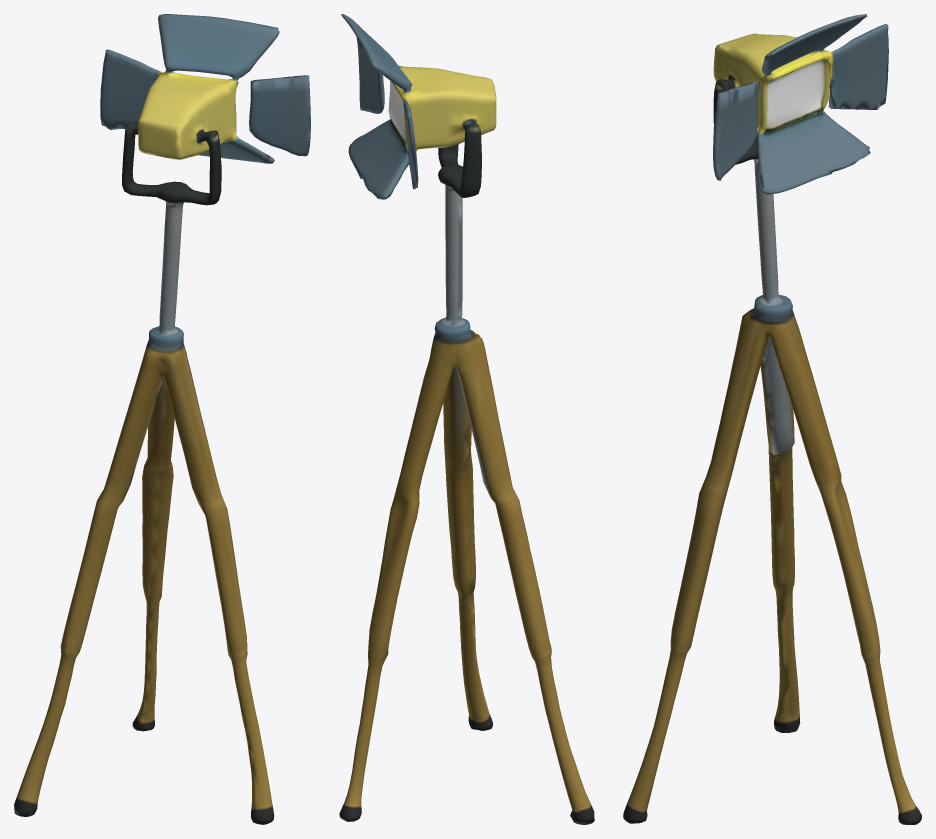
Rendered from 06_light_tall_rectangular.glb.
3 views of the same model, side by side, from view 1: azimuth 30°, elevation 25°; view 2: azimuth 150°, elevation 25°; view 3: azimuth 270°, elevation 25° (orthographic). The views are drawn at different scales.
Parts seen in each view (by area): view 1: 06_light_tall_rectangular; view 2: 06_light_tall_rectangular; view 3: 06_light_tall_rectangular.
Boxes of the visible parts, x1,y1,x2,y2 form: 06_light_tall_rectangular: (14, 14, 310, 824); 06_light_tall_rectangular: (339, 14, 594, 824); 06_light_tall_rectangular: (623, 14, 921, 824).
Size of the model in its own units: 0.9786 by 2.6 by 0.8682.
1 material, 1 textured.
